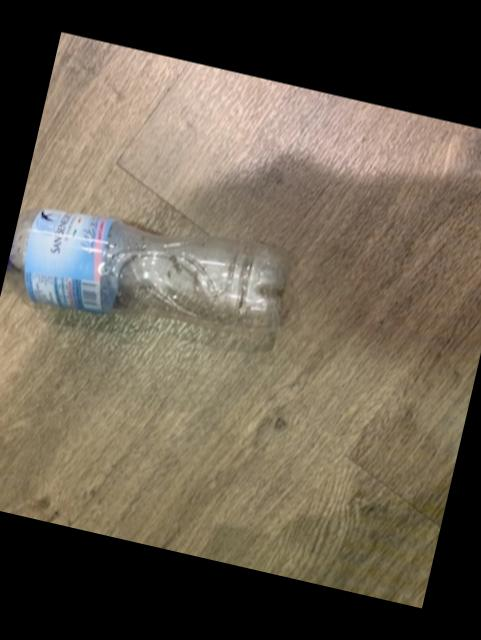plastic: (3, 211, 283, 331)
